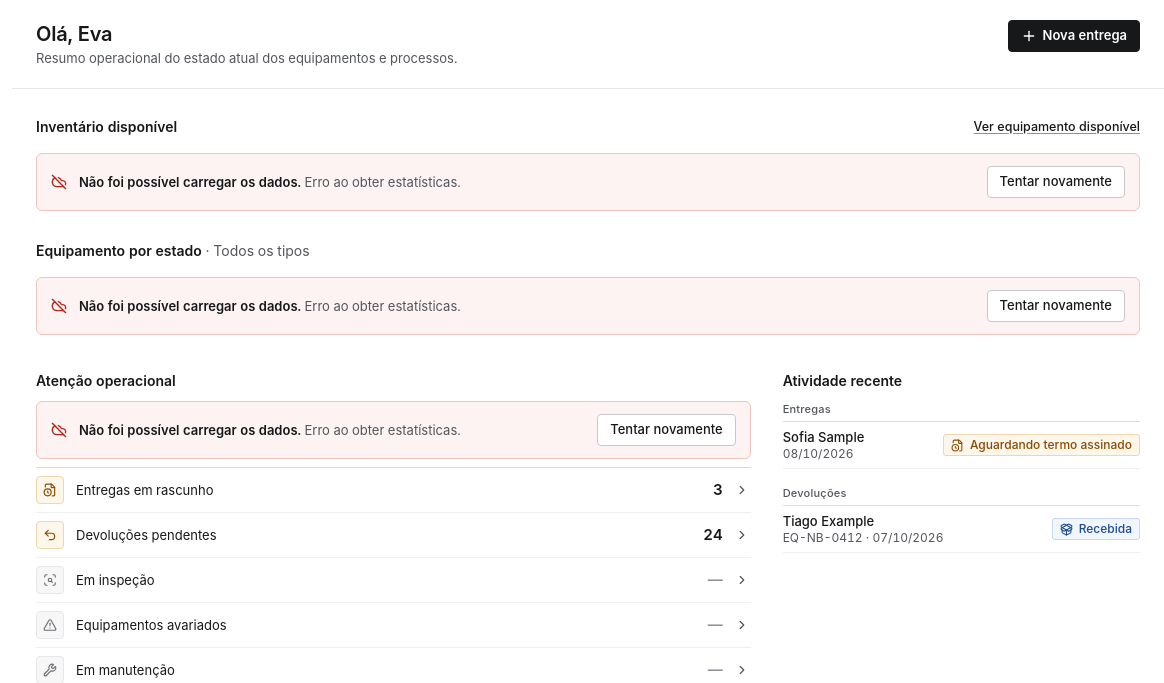
Test: DashboardPage — errors and loading › shows an error, not zeros, when equipment stats fail — and retry refetches
This screenshot has width=1164, height=683.
Expected: the message below "Inventário disponível" is shown, [36,153,1140,211]
Expected: the message below "Inventário disponível" shows "Não foi possível carregar os dados.", [79,174,301,190]
Click the button "Tentar novamente" below "Ver equipamento disponível".
click(1056, 182)  # box [986,166,1125,198]
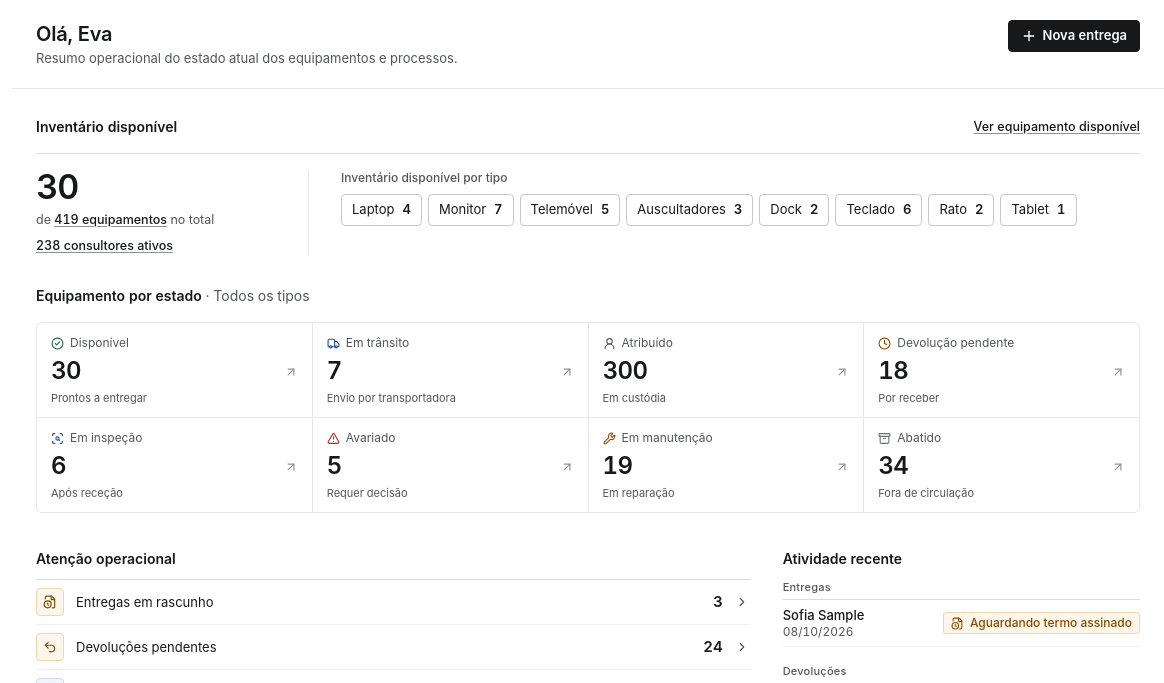
Expected: the link with aria-label "Disponível: 30." is shown, [37,323,312,417]
Expected: the message is gone
